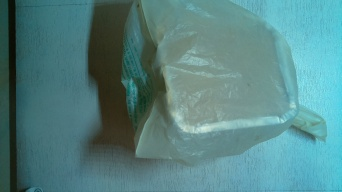f: (114, 1, 307, 169)
